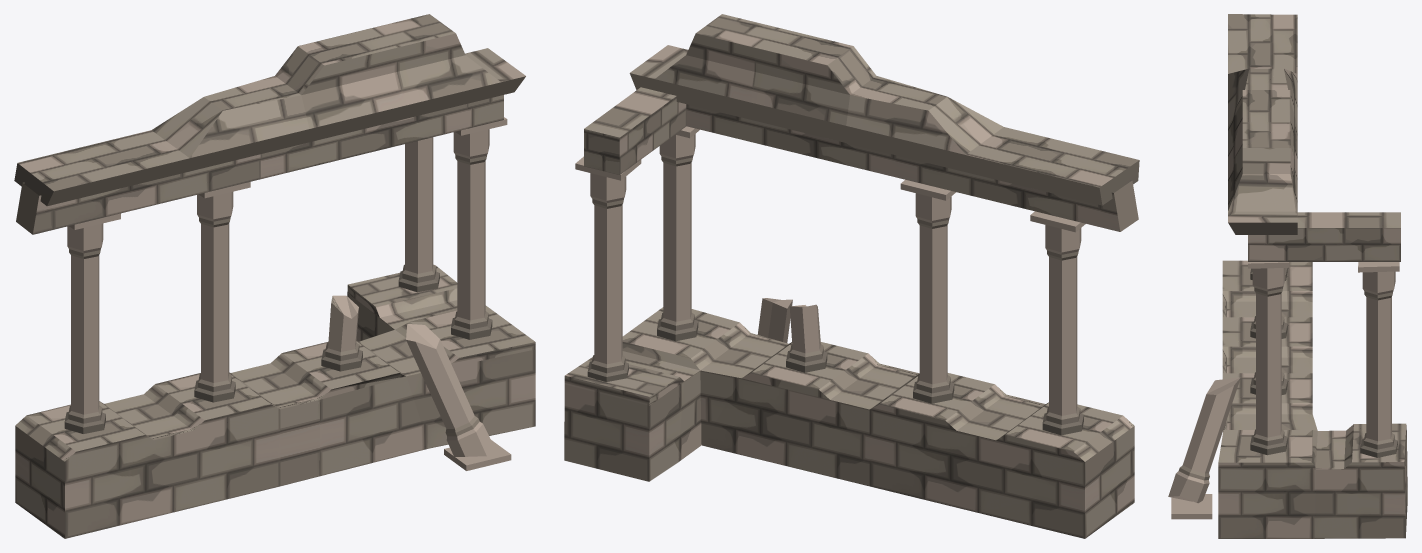
File: SM_Bld_Ruins_03.fbx
3 views of the same model, side by side, from view 1: azimuth 30°, elevation 25°; view 2: azimuth 150°, elevation 25°; view 3: azimuth 270°, elevation 25° (orthographic). The views are drawn at different scales.
Parts seen in each view (by area): view 1: SM_Bld_Ruins_03; view 2: SM_Bld_Ruins_03; view 3: SM_Bld_Ruins_03.
Part boxes in pixels (x1,y1,x2,y2): SM_Bld_Ruins_03: [14, 14, 535, 538]; SM_Bld_Ruins_03: [564, 14, 1139, 538]; SM_Bld_Ruins_03: [1168, 14, 1407, 538].
Size of the model in its own units: 1591 by 1251 by 746.
